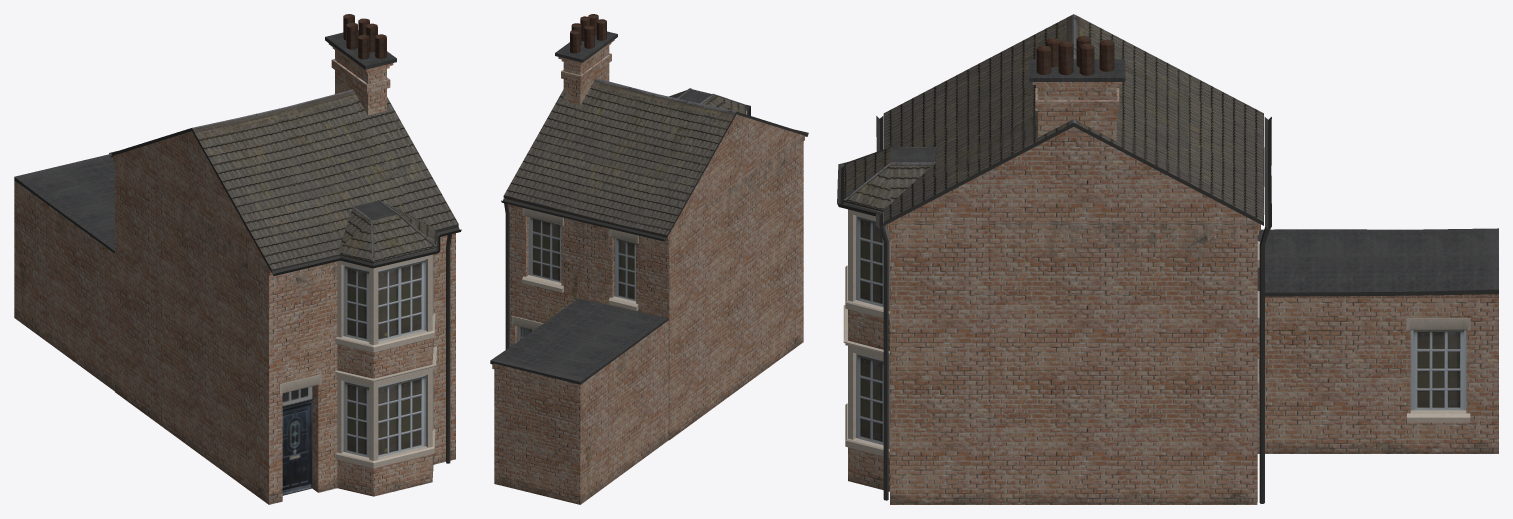
Rendered from ukterracedvictorian10b.FBX.
The picture shows the model from 3 angles, left to right: view 1: azimuth 30°, elevation 25°; view 2: azimuth 150°, elevation 25°; view 3: azimuth 270°, elevation 25°; orthographic projection. The views are drawn at different scales.
Visible parts, largest first — view 1: Object003; view 2: Object003; view 3: Object003.
Boxes of the visible parts, x1,y1,x2,y2 form: Object003: (14, 14, 461, 504); Object003: (490, 14, 808, 504); Object003: (837, 14, 1498, 504).
Size of the model in its own units: 560 by 1093 by 1441.
